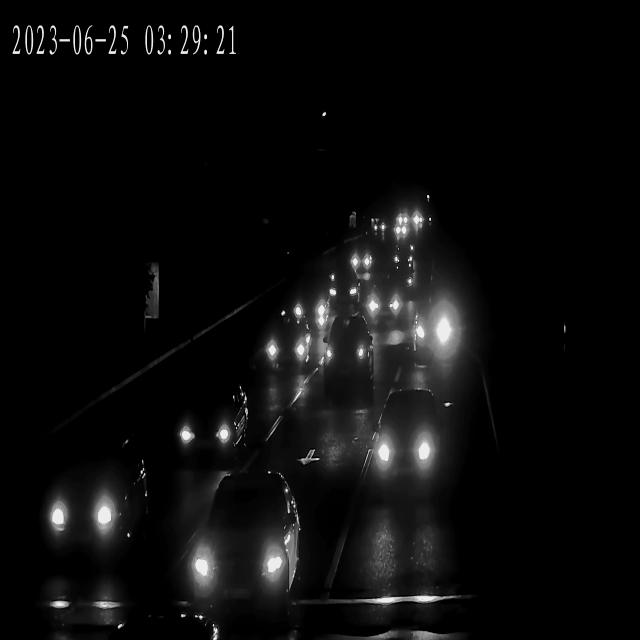Car: (42, 441, 148, 588), (195, 476, 301, 611), (369, 393, 444, 492), (175, 381, 249, 467), (325, 318, 375, 408), (412, 304, 460, 362), (268, 329, 315, 380), (367, 282, 408, 334), (295, 286, 331, 334), (327, 267, 360, 316), (348, 247, 376, 280), (392, 243, 415, 276), (389, 215, 406, 242), (408, 208, 424, 231), (372, 220, 386, 238)
